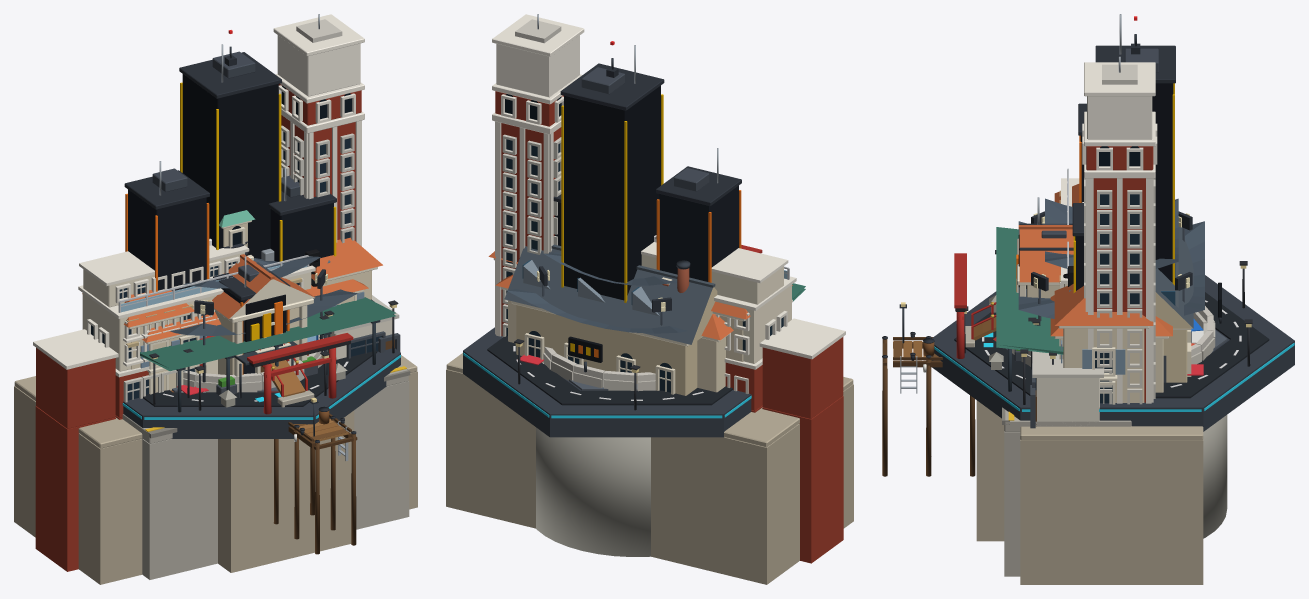
The model's file is batiments.glb.
3 renders of one model, left to right at view 1: azimuth 30°, elevation 25°; view 2: azimuth 150°, elevation 25°; view 3: azimuth 270°, elevation 25°, orthographic. The views are drawn at different scales.
Parts seen in each view (by area): view 1: bat_usp, bat_bi, bat_avignon, bat_sncf, bat_lean, bat_ponton, bat_perso, bat_studio, bat_pont; view 2: bat_usp, bat_bi, bat_perso, bat_sncf, bat_avignon, bat_lean, bat_studio; view 3: bat_usp, bat_bi, bat_avignon, bat_sncf, bat_perso, bat_lean, bat_studio, bat_ponton, bat_pont.
Part boxes in pixels (x1,y1,x2,y2): bat_usp: (14,14,417,584); bat_bi: (122,30,400,438); bat_avignon: (82,210,382,572); bat_sncf: (122,297,410,579); bat_lean: (170,256,357,414); bat_ponton: (273,397,357,554); bat_perso: (183,269,327,392); bat_studio: (177,238,400,395); bat_pont: (258,343,314,407); bat_usp: (446,14,853,584); bat_bi: (463,41,751,437); bat_perso: (536,266,671,556); bat_sncf: (504,244,805,395); bat_avignon: (488,251,792,392); bat_lean: (506,245,762,333); bat_studio: (517,235,690,365); bat_usp: (1020,56,1203,584); bat_bi: (931,14,1294,431); bat_avignon: (976,184,1172,541); bat_sncf: (996,227,1193,576); bat_perso: (993,211,1227,538); bat_lean: (954,198,1204,369); bat_studio: (1030,262,1203,428); bat_ponton: (882,302,975,476); bat_pont: (965,302,996,347).
Size of the model in its own units: 5.1 by 6.95 by 5.19.
